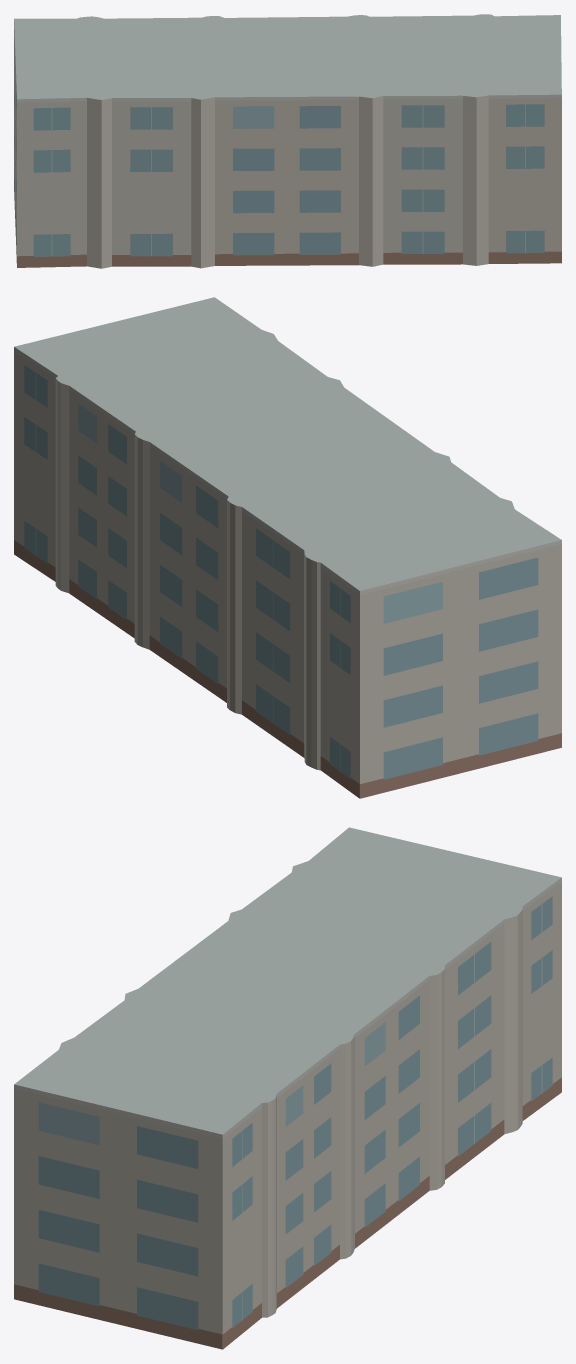
Rendered from survey-upis-32869816.glb.
The picture shows the model from 3 angles, top to bottom: view 1: azimuth 30°, elevation 25°; view 2: azimuth 150°, elevation 25°; view 3: azimuth 270°, elevation 25°; orthographic projection. The views are drawn at different scales.
Parts seen in each view (by area): view 1: survey-upis-32869816.tmp; view 2: survey-upis-32869816.tmp; view 3: survey-upis-32869816.tmp.
Boxes of the visible parts, bbox=[...] form: survey-upis-32869816.tmp: bbox=[14, 14, 561, 268]; survey-upis-32869816.tmp: bbox=[14, 297, 561, 798]; survey-upis-32869816.tmp: bbox=[14, 827, 561, 1349].
Bounding box in the file's own units: 38.04 × 12.4 × 28.66.
